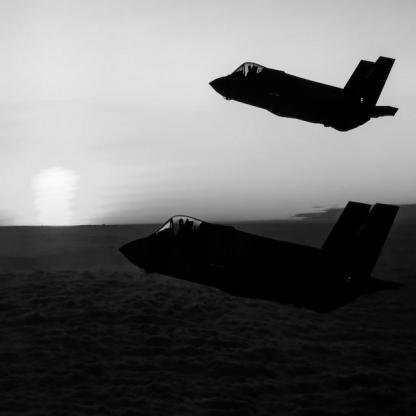F35: (119, 201, 407, 315), (210, 56, 401, 133)
